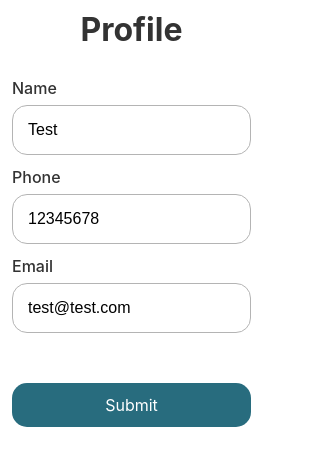
Scenario: profile › should show validation err if fields empty
Step 1. Clear the field with placeholder "Enter your name" → x=132, y=130, box [12,105,251,155]
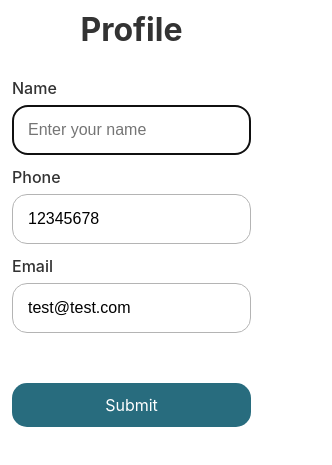
Step 2. Click the button "Submit" → x=132, y=405, box [12,383,251,427]
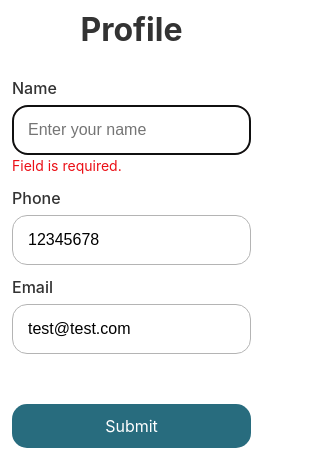
Now the form with test id "user-profile-form" shows "Field is required.", box [12,157,122,174]
